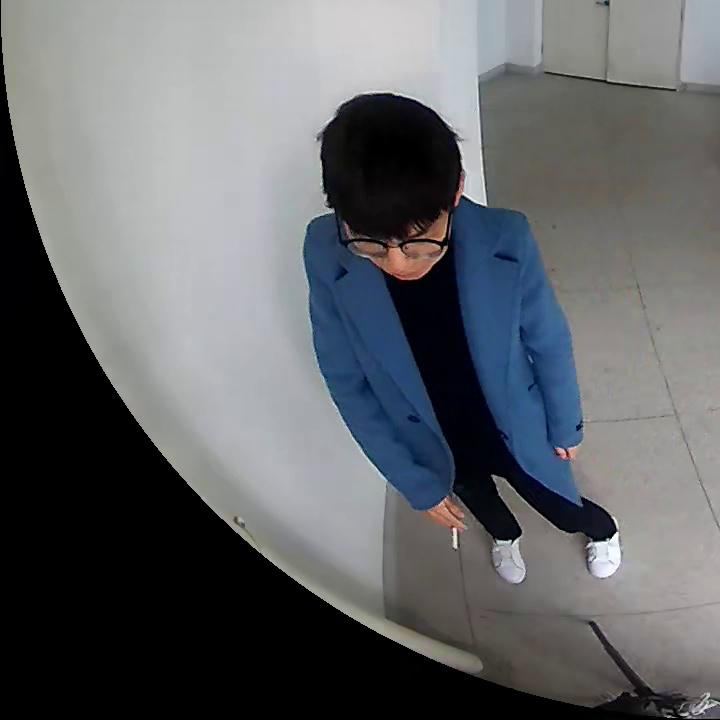handsmoke: (432, 505, 467, 554)
handwithoutsmoke: (558, 446, 580, 463)
mouthwithoutsmoke: (319, 94, 464, 283)
